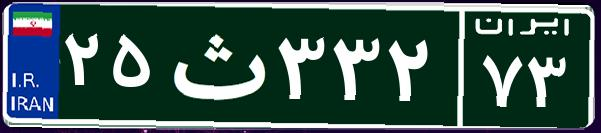2: (385, 28, 445, 110), (57, 26, 110, 107)
3: (273, 28, 330, 110), (330, 28, 385, 110), (525, 38, 570, 115)
5: (110, 28, 158, 105)
7: (475, 38, 525, 113)
ث: (158, 15, 273, 115)
